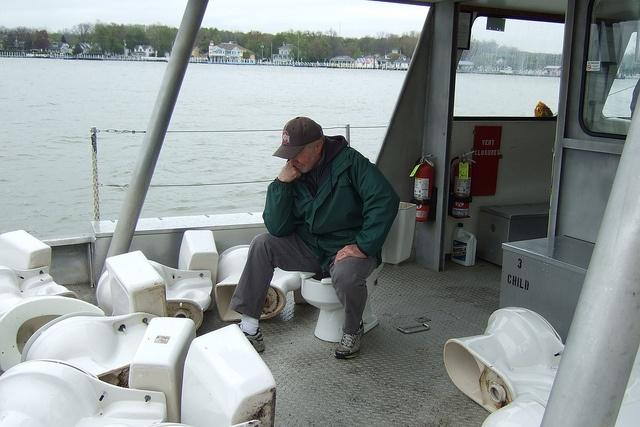APAR: (446, 150, 474, 218), (410, 153, 435, 223)
